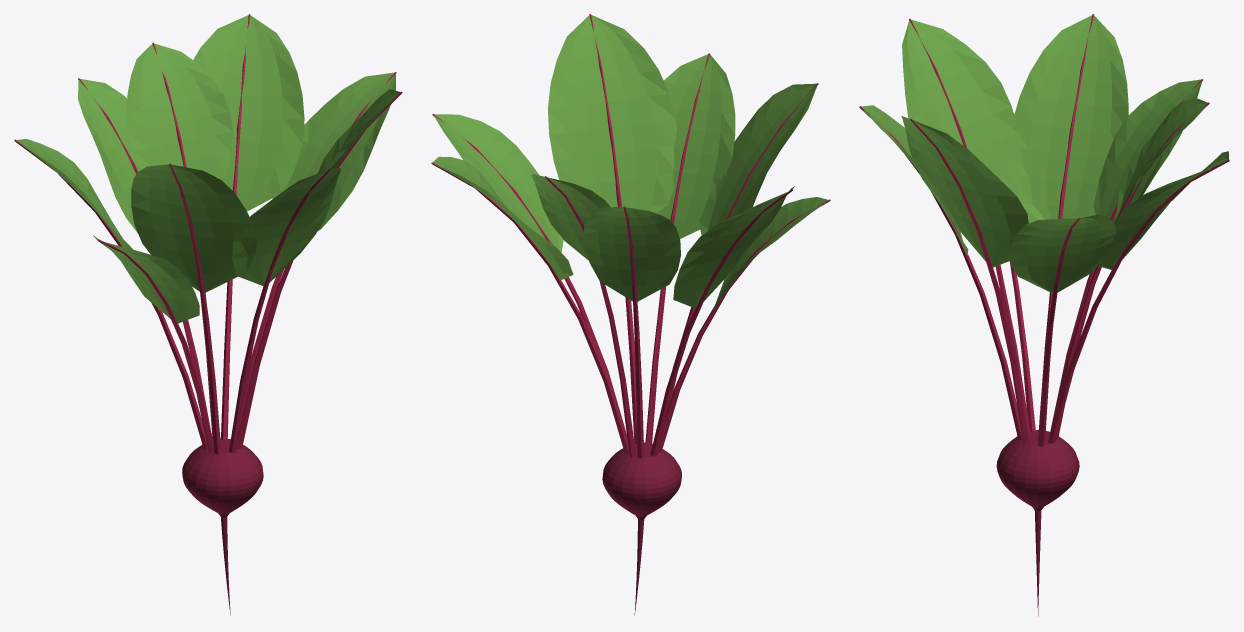
Rendered from beetroot_harvest_v11.glb.
The picture shows the model from 3 angles, left to right: view 1: azimuth 30°, elevation 25°; view 2: azimuth 150°, elevation 25°; view 3: azimuth 270°, elevation 25°; orthographic projection. The views are drawn at different scales.
Parts seen in each view (by area): view 1: plant; view 2: plant; view 3: plant.
Part boxes in pixels (bbox=[...]): plant: bbox=[14, 14, 402, 615]; plant: bbox=[431, 14, 830, 615]; plant: bbox=[859, 14, 1229, 616].
Size of the model in its own units: 0.3529 by 0.4904 by 0.2978.
1 material, 1 textured.
